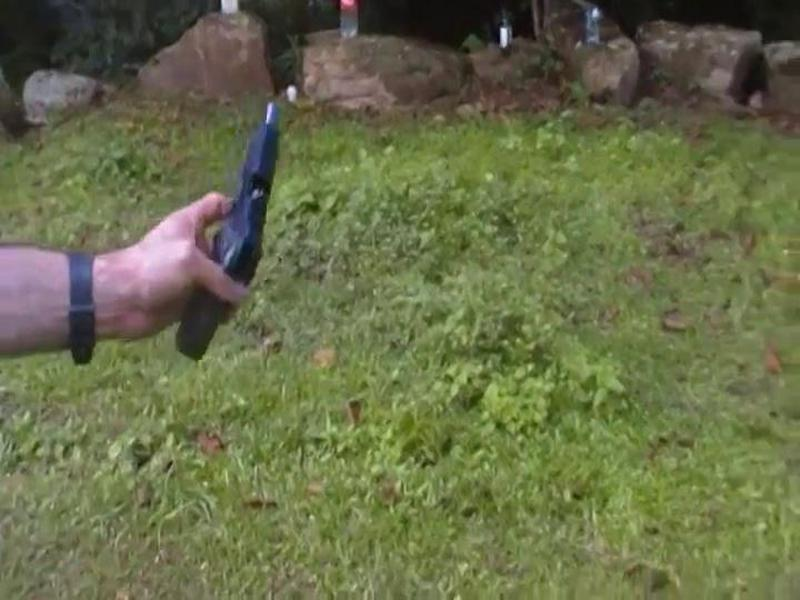Pistola: (176, 103, 298, 370)
